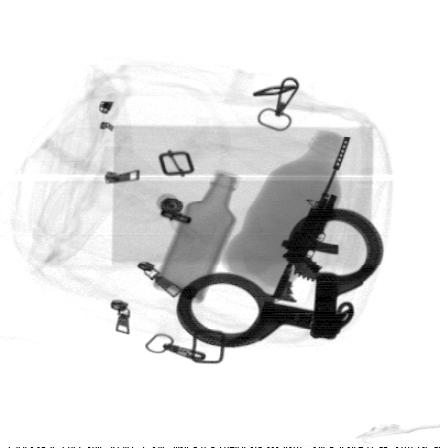Gun: (269, 131, 358, 308)
HandCuffs: (173, 203, 385, 350)
